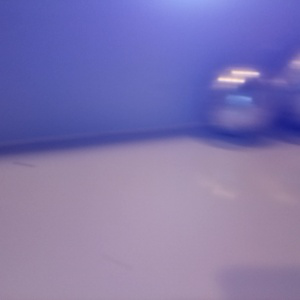alive_ball: (201, 64, 282, 137), (282, 51, 300, 133)
